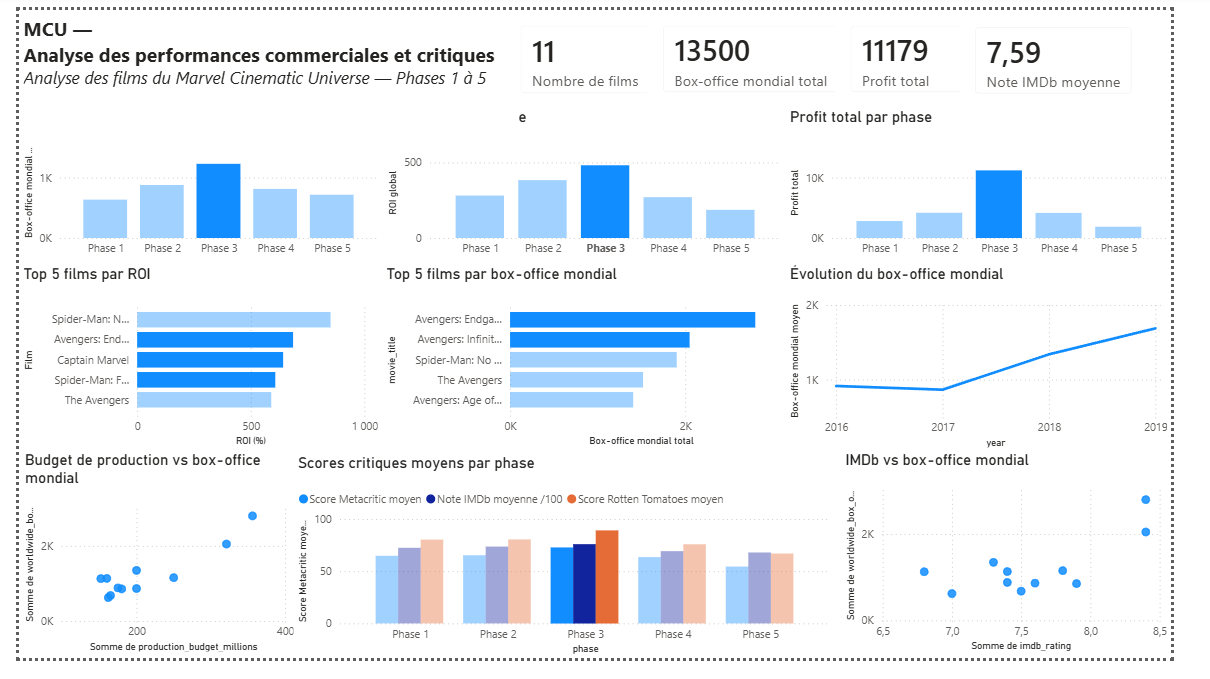

The dashboard page shown, as its layout file describes it:
{"tool":"powerbi","page":{"name":"Page 1","canvas":[1280,720],"ordinal":0},"visuals":[{"type":"columnChart","fields":{"Category":["Dim_Phase.phase"],"Y":["Dim_Date.Box-office mondial moyen"]},"box":[0,130.4,403.5,155.1],"z":0},{"type":"barChart","title":"Top 5 films par box-office mondial","fields":{"Category":["Dim_Movie.movie_title"],"Y":["Dim_Date.Box-office mondial total"]},"box":[403.5,285.4,446,205.8],"z":1000},{"type":"lineChart","title":"Évolution du box-office mondial","fields":{"Category":["Dim_Date.year"],"Y":["Dim_Date.Box-office mondial moyen"]},"box":[850.9,285.4,428.7,207.9],"z":2000},{"type":"columnChart","fields":{"Category":["Dim_Phase.phase"],"Y":["Dim_Date.ROI global"]},"box":[403.5,130.4,446,155.1],"z":3000},{"type":"scatterChart","title":"Budget de production vs box-office mondial","fields":{"X":["Sum(Fact_Movie.production_budget_millions)"],"Y":["Sum(Fact_Movie.worldwide_box_office_millions)"],"Category":["Fact_Movie.movie_key"]},"box":[0,492.7,308.8,227.8],"z":4000},{"type":"barChart","title":"Top 5 films par ROI","fields":{"Category":["Dim_Movie.movie_title"],"Y":["Sum(Fact_Movie.roi_percentage)"]},"box":[0,285.4,403.5,205.8],"z":5000},{"type":"columnChart","fields":{"Category":["Dim_Phase.phase"],"Y":["Dim_Date.Profit total"]},"box":[850.8,130.4,428.2,155.1],"z":6000},{"type":"clusteredColumnChart","title":"Scores critiques moyens par phase","fields":{"Category":["Dim_Phase.phase"],"Y":["Dim_Date.Score Metacritic moyen","Dim_Date.Note IMDb moyenne /100","Dim_Date.Score Rotten Tomatoes moyen"]},"box":[310.1,492.7,601.7,227.3],"z":7000},{"type":"scatterChart","title":"IMDb vs box-office mondial","fields":{"X":["Sum(Fact_Movie.imdb_rating)"],"Y":["Sum(Fact_Movie.worldwide_box_office_millions)"],"Category":["Dim_Movie.movie_key"]},"box":[911.6,493.2,366.7,227.3],"z":8000},{"type":"textbox","box":[0,0,555,130],"z":9000},{"type":"cardVisual","fields":{"Data":["Dim_Date.Nombre de films"]},"box":[555,0,198,109],"z":9001},{"type":"cardVisual","fields":{"Data":["Dim_Date.Box-office mondial total"]},"box":[711.7,0,233.3,108.3],"z":9002},{"type":"cardVisual","fields":{"Data":["Dim_Date.Profit total"]},"box":[926.7,0,138.3,108.3],"z":9003},{"type":"cardVisual","fields":{"Data":["Dim_Date.Note IMDb moyenne"]},"box":[1045,1.7,208.3,108.3],"z":9004}]}

Visuals, with their boxes in screenshot pixels (x1, y1, x2, y2), scaled from the page's 1280x720 canvas onto the 1210x679 screenshot:
columnChart - Dim_Phase.phase x Dim_Date.Box-office mondial moyen: x1=0 y1=123 x2=381 y2=269
"Top 5 films par box-office mondial" barChart: x1=381 y1=269 x2=803 y2=463
"Évolution du box-office mondial" lineChart: x1=804 y1=269 x2=1209 y2=465
columnChart - Dim_Phase.phase x Dim_Date.ROI global: x1=381 y1=123 x2=803 y2=269
"Budget de production vs box-office mondial" scatterChart: x1=0 y1=465 x2=292 y2=678
"Top 5 films par ROI" barChart: x1=0 y1=269 x2=381 y2=463
columnChart - Dim_Phase.phase x Dim_Date.Profit total: x1=804 y1=123 x2=1209 y2=269
"Scores critiques moyens par phase" clusteredColumnChart: x1=293 y1=465 x2=862 y2=678
"IMDb vs box-office mondial" scatterChart: x1=862 y1=465 x2=1208 y2=678
textbox: x1=0 y1=0 x2=525 y2=123
cardVisual - Dim_Date.Nombre de films: x1=525 y1=0 x2=712 y2=103
cardVisual - Dim_Date.Box-office mondial total: x1=673 y1=0 x2=893 y2=102
cardVisual - Dim_Date.Profit total: x1=876 y1=0 x2=1007 y2=102
cardVisual - Dim_Date.Note IMDb moyenne: x1=988 y1=2 x2=1185 y2=104
